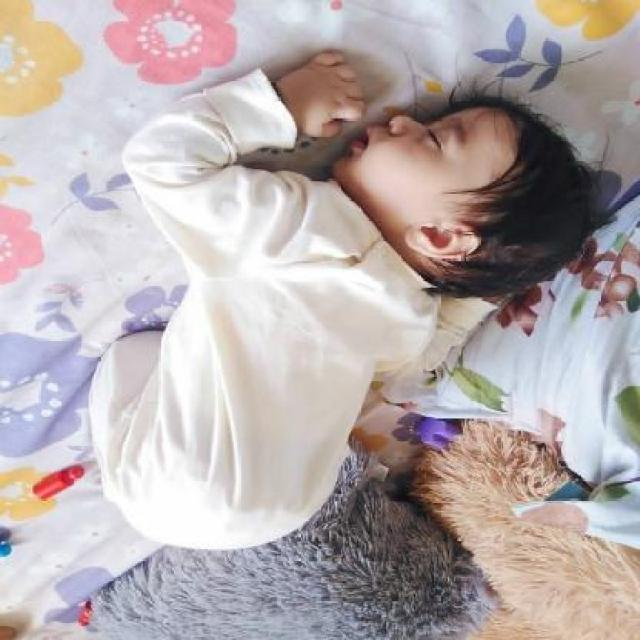baby: (84, 52, 598, 557)
